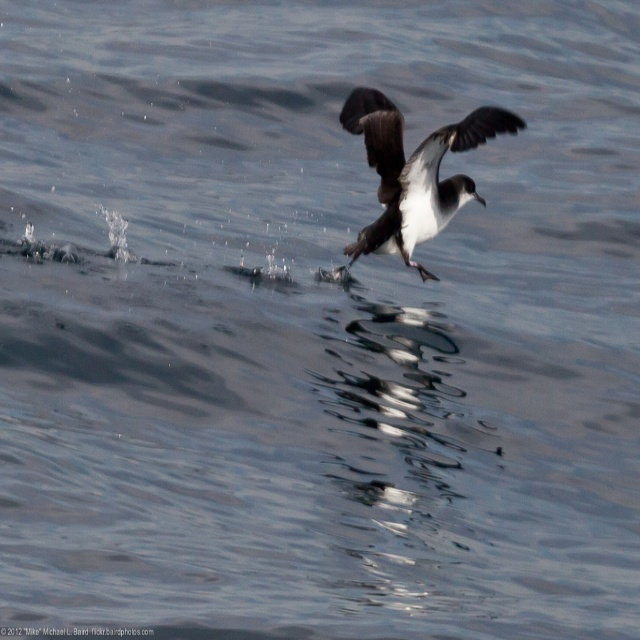Duck: (341, 85, 526, 287)
